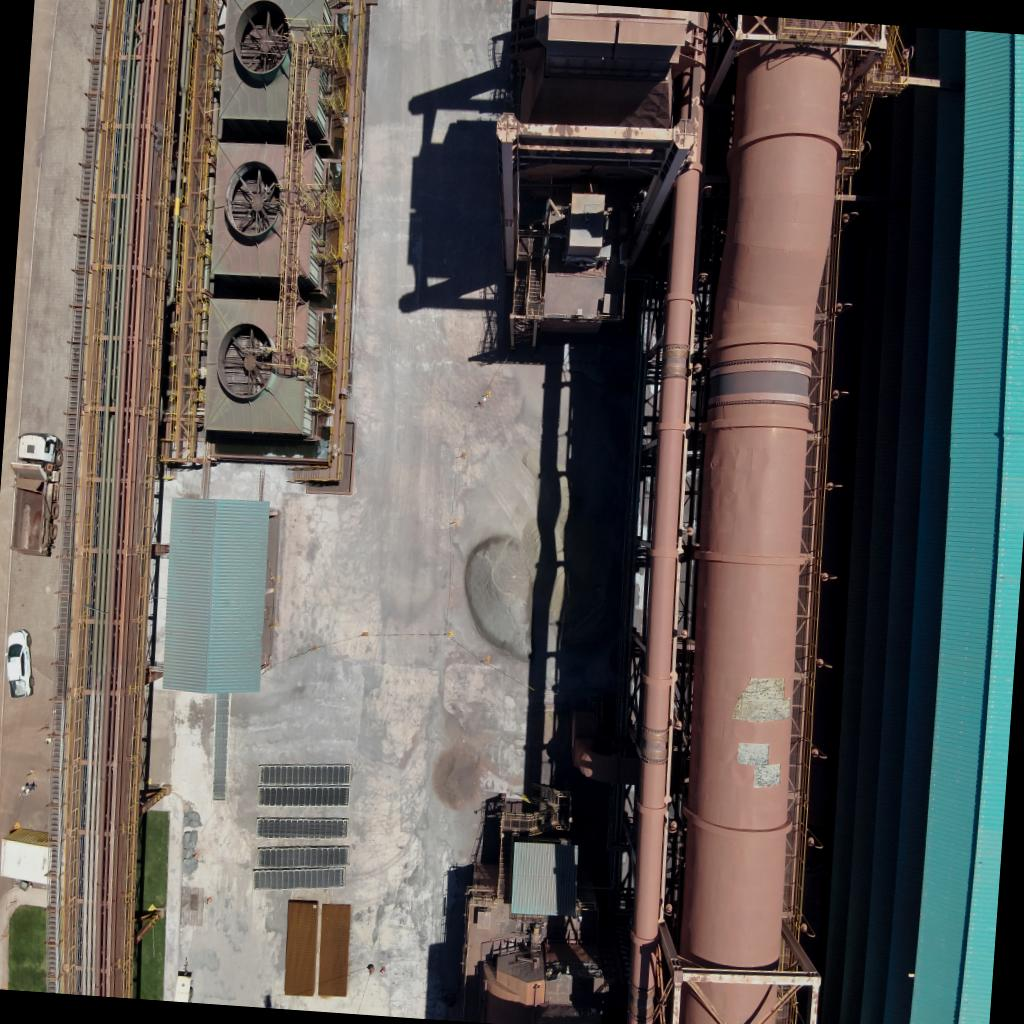Failures: (734, 674, 792, 724), (735, 740, 770, 766), (754, 762, 782, 788)
